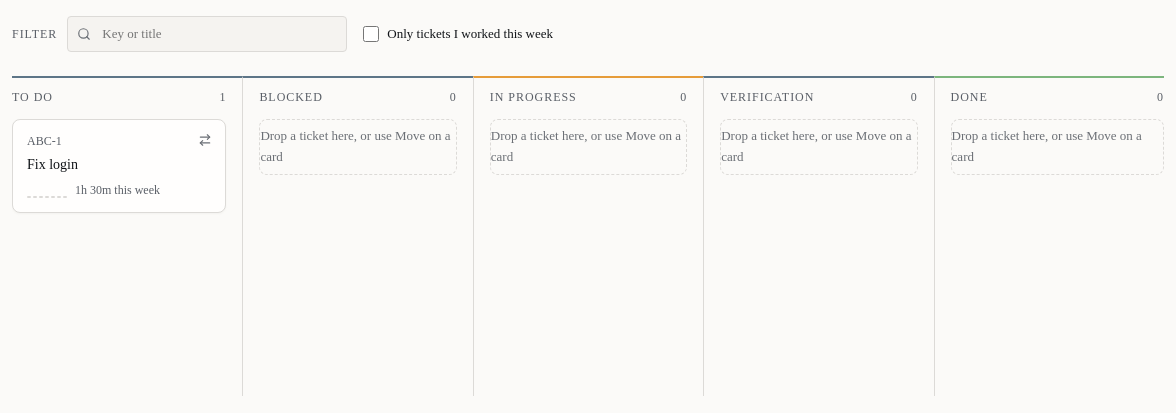
Test case: Move menu transitions lookup › several matches open the chooser from the menu without a second lookup
The image size is (1176, 413).
Click the button named "Move ABC-1". click: coordinates (205, 140)
box: [191,126,219,154]
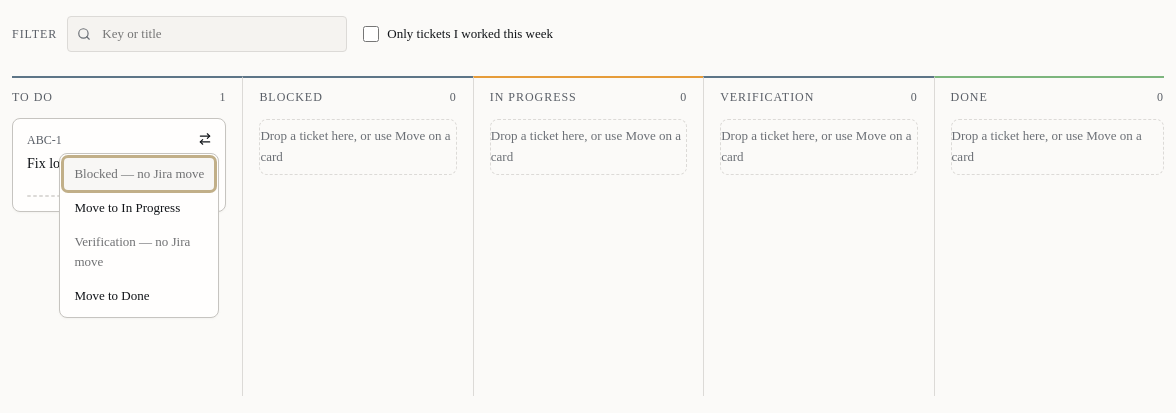
Click the menu item "Move to In Progress". click: coordinates (139, 208)
box: [64,192,214,224]
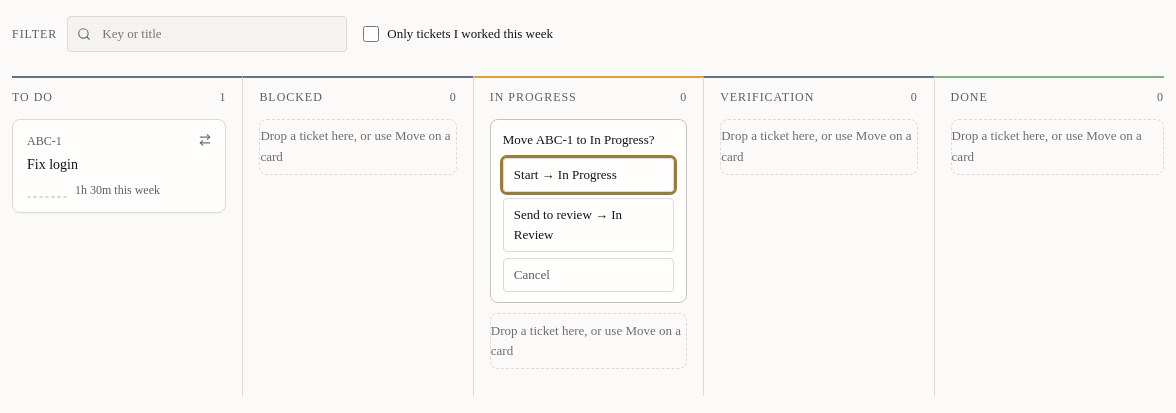
Check: the element "Move ABC-1 to In Progress?" is shown, box [490,119,687,303]
